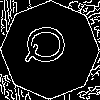Q: (25, 25, 74, 65)
